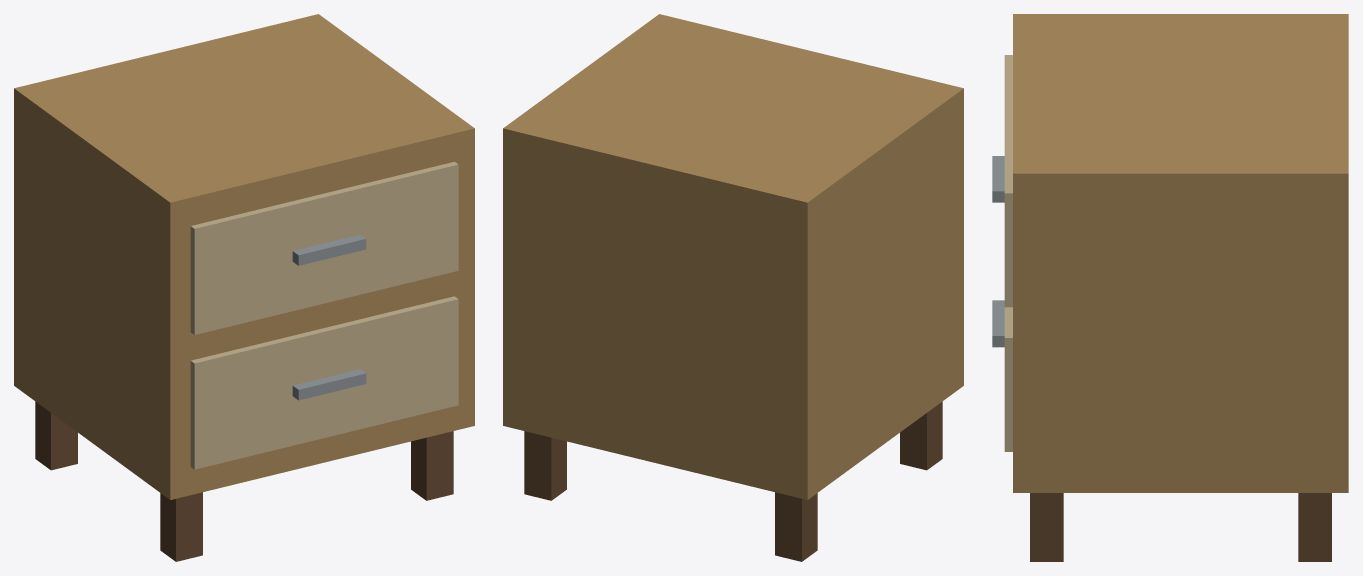
The model's file is bedside_table.glb.
The picture shows the model from 3 angles, left to right: view 1: azimuth 30°, elevation 25°; view 2: azimuth 150°, elevation 25°; view 3: azimuth 270°, elevation 25°; orthographic projection. The views are drawn at different scales.
Parts seen in each view (by area): view 1: bedside_table; view 2: bedside_table; view 3: bedside_table.
Part boxes in pixels (x1,y1,x2,y2): bedside_table: (14,14,474,561); bedside_table: (503,14,963,561); bedside_table: (992,14,1348,561).
Size of the model in its own units: 0.45 by 0.52 by 0.425.
